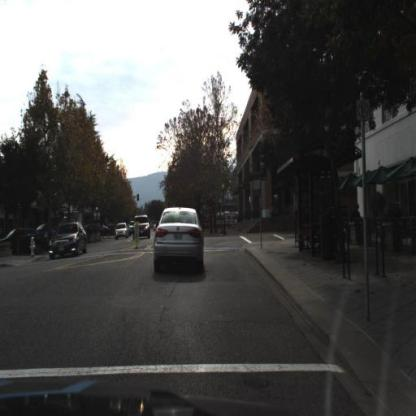car: (154, 206, 206, 275), (47, 221, 88, 262), (46, 222, 90, 259), (2, 228, 49, 258), (129, 211, 153, 244), (133, 214, 151, 241), (112, 220, 131, 243), (115, 222, 130, 242)
pedestrian: (270, 200, 277, 224), (269, 202, 276, 222)
